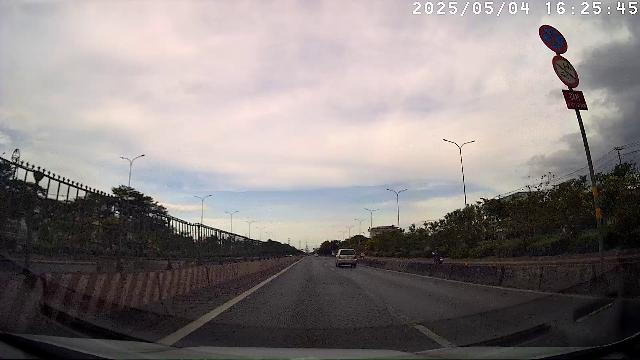130-cam-dung-va-do-xe: (538, 24, 570, 54)
